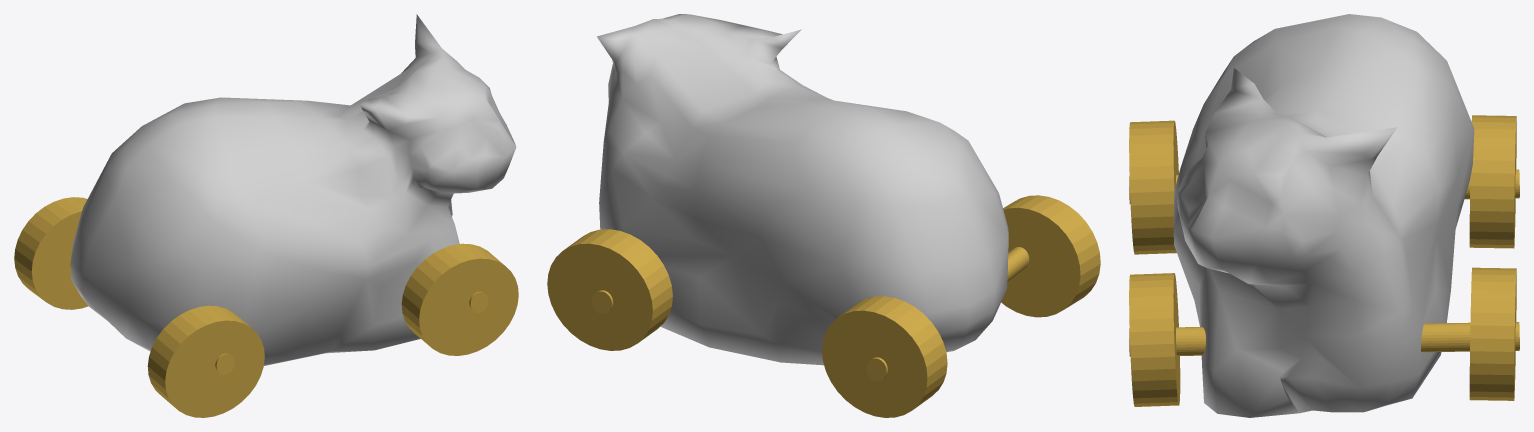
The model's file is helpadad.obj.
3 views of the same model, side by side, from view 1: azimuth 30°, elevation 25°; view 2: azimuth 150°, elevation 25°; view 3: azimuth 270°, elevation 25° (orthographic). The views are drawn at different scales.
Visible parts, largest first — view 1: dingus_dingus_0_dingus, Цилиндр_Материал, Цилиндр.005_Материал, Цилиндр.004_Материал; view 2: dingus_dingus_0_dingus, Цилиндр.001_Материал, Цилиндр.004_Материал, Цилиндр.005_Материал, Цилиндр.003_Материал; view 3: dingus_dingus_0_dingus, Цилиндр_Материал, Цилиндр.001_Материал, Цилиндр.005_Материал, Цилиндр.004_Материал, Цилиндр.002_Материал.
Part boxes in pixels (<box>): dingus_dingus_0_dingus: <box>71,14,516,365</box>; Цилиндр_Материал: <box>401,243,518,355</box>; Цилиндр.005_Материал: <box>147,305,264,417</box>; Цилиндр.004_Материал: <box>14,197,88,309</box>; dingus_dingus_0_dingus: <box>597,14,1008,365</box>; Цилиндр.001_Материал: <box>547,229,672,350</box>; Цилиндр.004_Материал: <box>822,296,947,417</box>; Цилиндр.005_Материал: <box>1001,195,1100,317</box>; Цилиндр.003_Материал: <box>866,247,1029,380</box>; dingus_dingus_0_dingus: <box>1173,14,1474,417</box>; Цилиндр_Материал: <box>1129,273,1180,406</box>; Цилиндр.001_Материал: <box>1469,267,1516,400</box>; Цилиндр.005_Материал: <box>1129,120,1178,254</box>; Цилиндр.004_Материал: <box>1469,115,1516,248</box>; Цилиндр.002_Материал: <box>1129,322,1519,356</box>.
Bounding box in the file's own units: 30.41 × 19.21 × 21.42.
